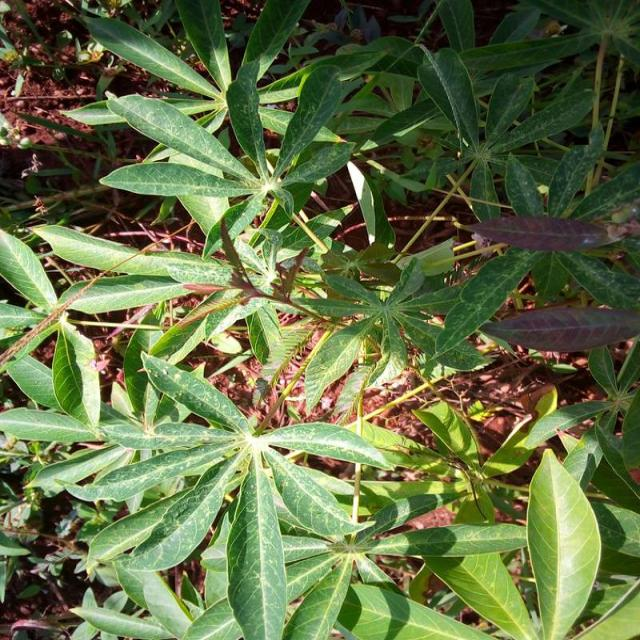cassava leaf: (2, 1, 638, 638), (526, 447, 602, 638)
